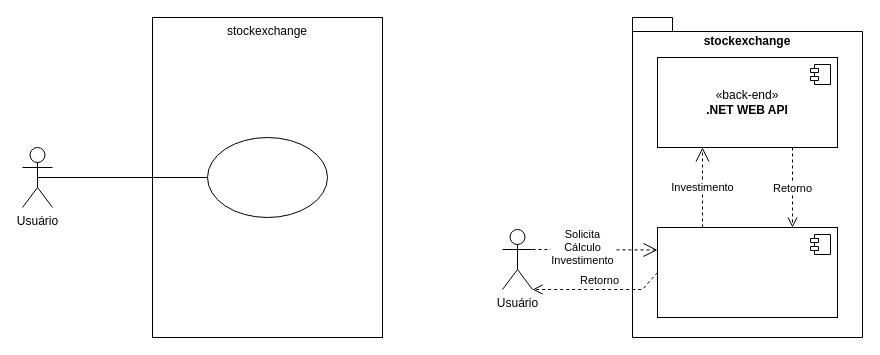
This 880x355 diagram has some shape labels left out. Here are the shapes that lost their labels. From the top down, the box of each, then its label:
(206, 136, 328, 218): Solicitar Cálculo do Investimento
(656, 226, 838, 318): «front-end» ANGULAR UI
